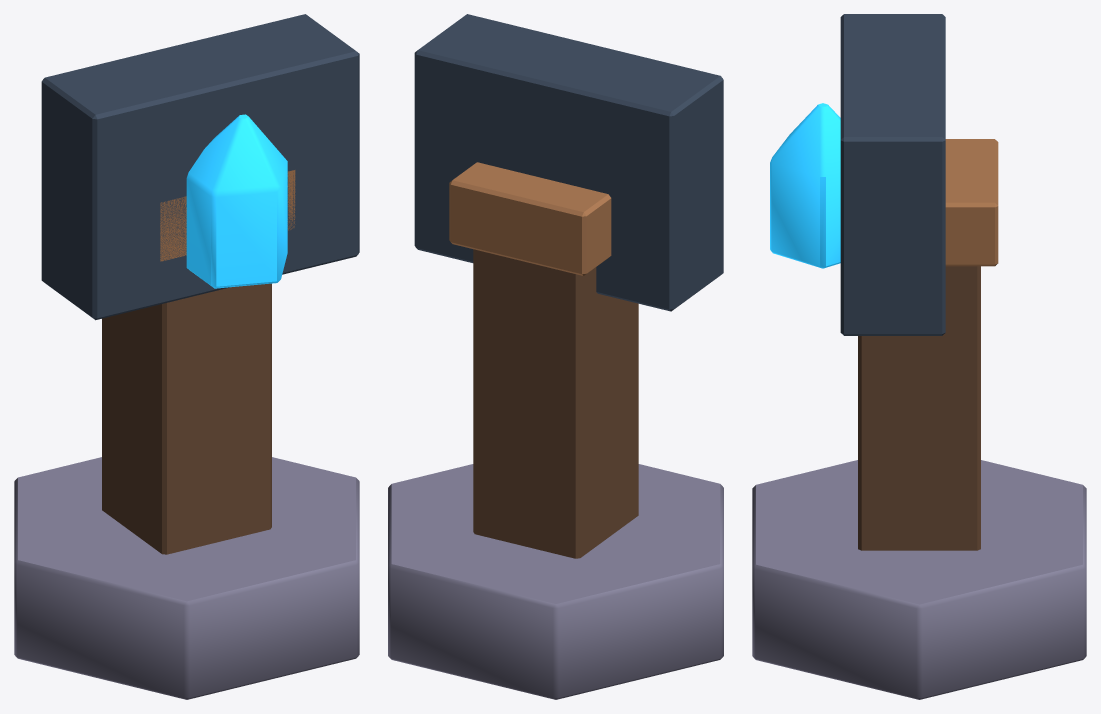
Rendered from spawn_marker_01.glb.
3 renders of one model, left to right at view 1: azimuth 30°, elevation 25°; view 2: azimuth 150°, elevation 25°; view 3: azimuth 270°, elevation 25°, orthographic. The views are drawn at different scales.
Visible parts, largest first — view 1: spawn_marker_01; view 2: spawn_marker_01; view 3: spawn_marker_01.
Part boxes in pixels (x1=…): spawn_marker_01: x1=14, y1=14, x2=359, y2=699; spawn_marker_01: x1=388, y1=14, x2=723, y2=699; spawn_marker_01: x1=752, y1=14, x2=1086, y2=699.
Size of the model in its own units: 0.436 by 0.685 by 0.3811.
